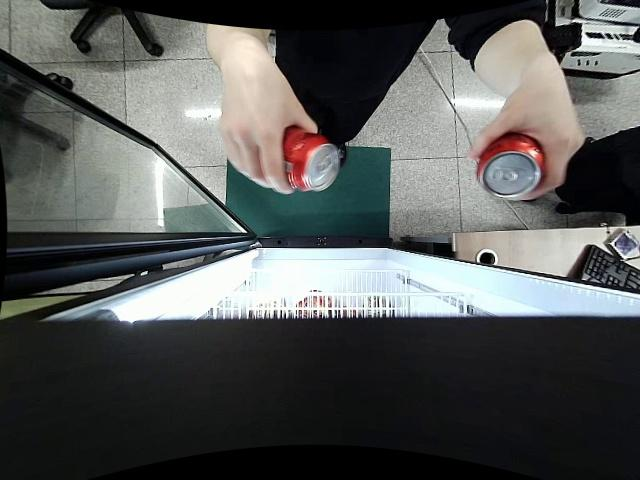00_hand: (467, 69, 586, 203), (218, 56, 319, 196)
11_cocaColaZero: (475, 131, 546, 200), (284, 127, 340, 191)
